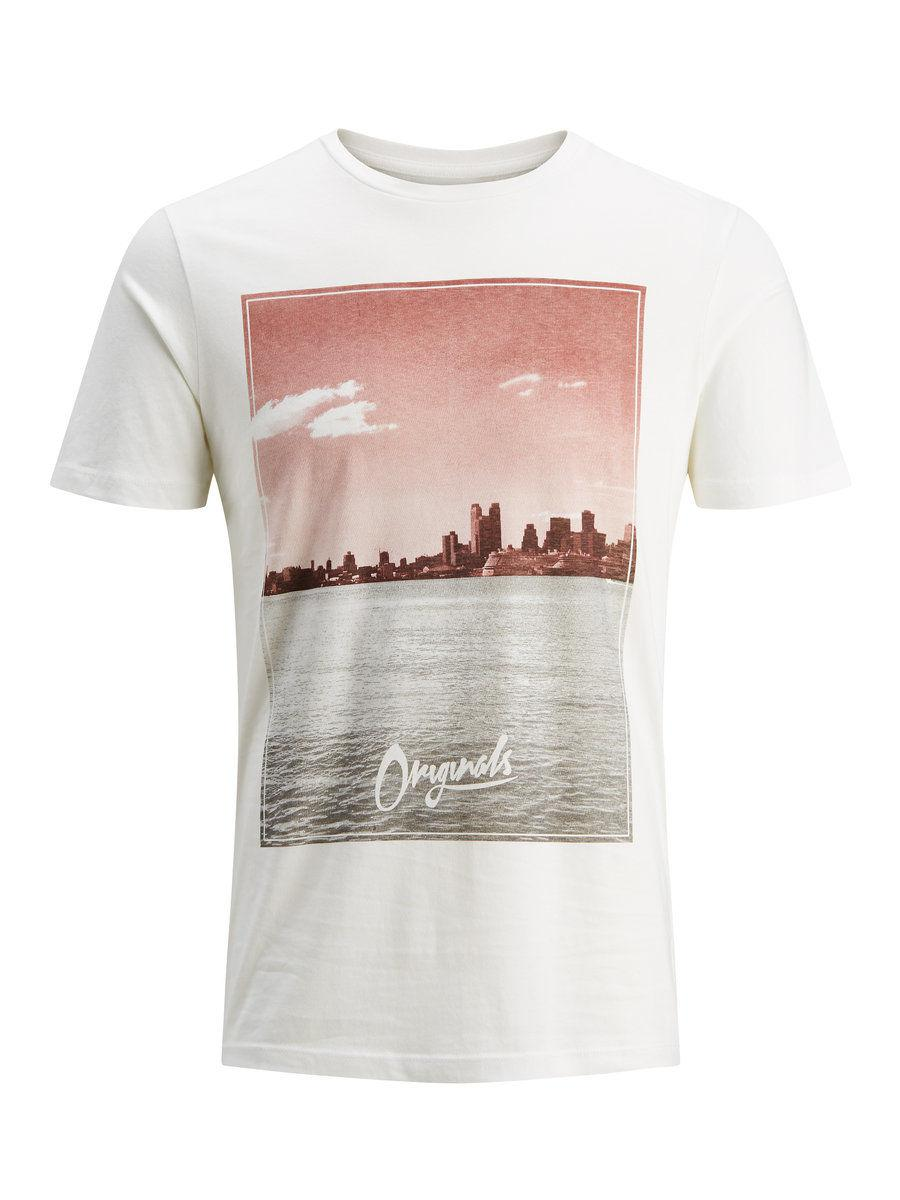teeshirt: (25, 102, 889, 1109)
